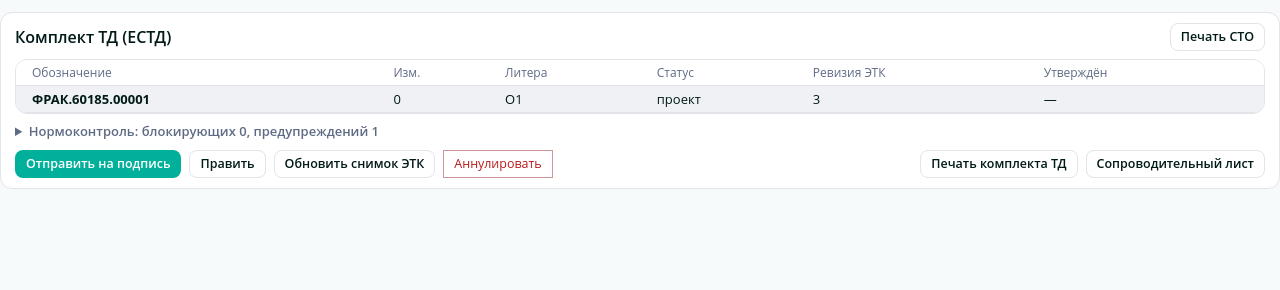
Test: sends to signing when only warnings exist and shows findings of a 422 refusal
Click the button "Отправить на подпись".
click(98, 164)  # box [15,150,181,178]
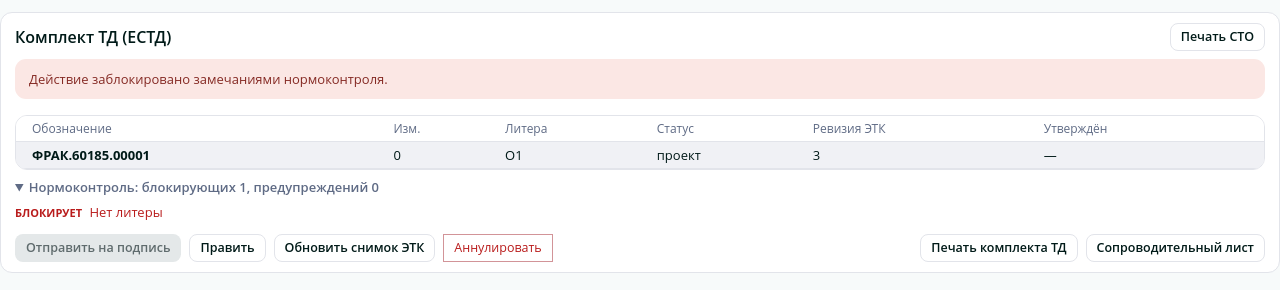
Expected: the list item "Нет литеры" is shown, [89,203,163,221]
